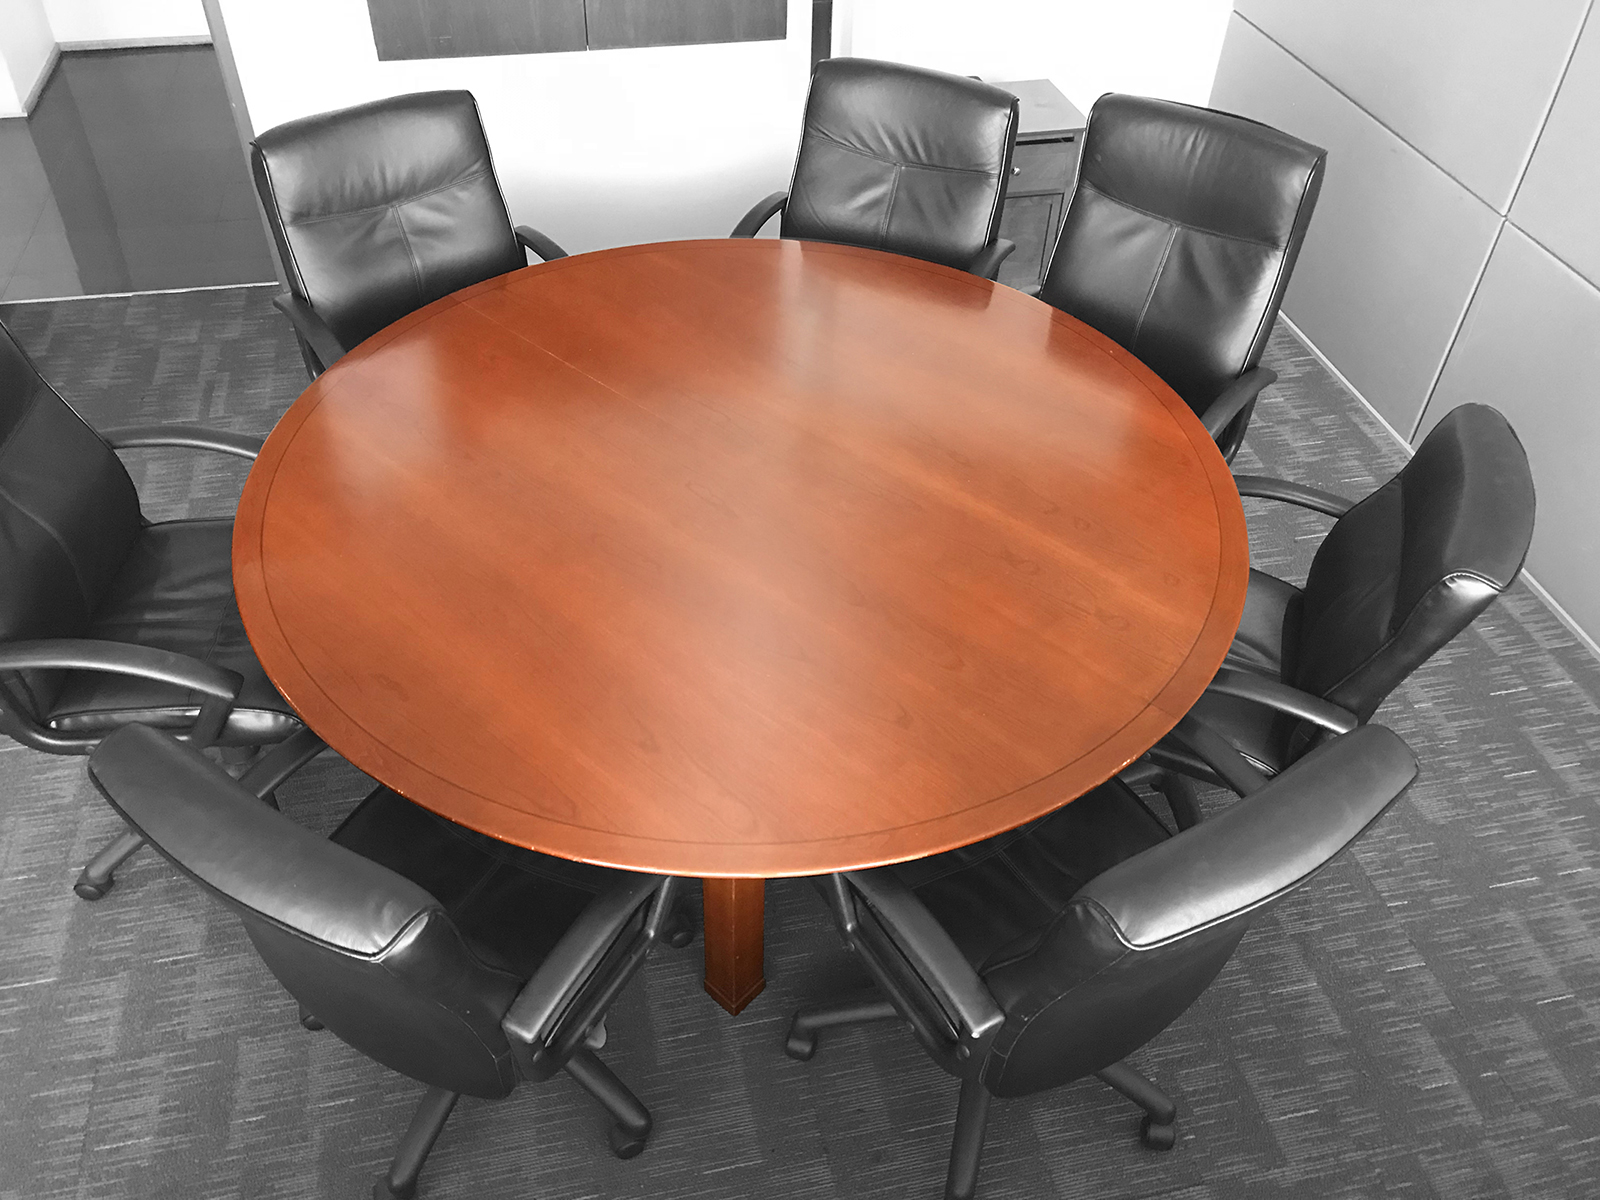conference_table: (230, 237, 1251, 883)
